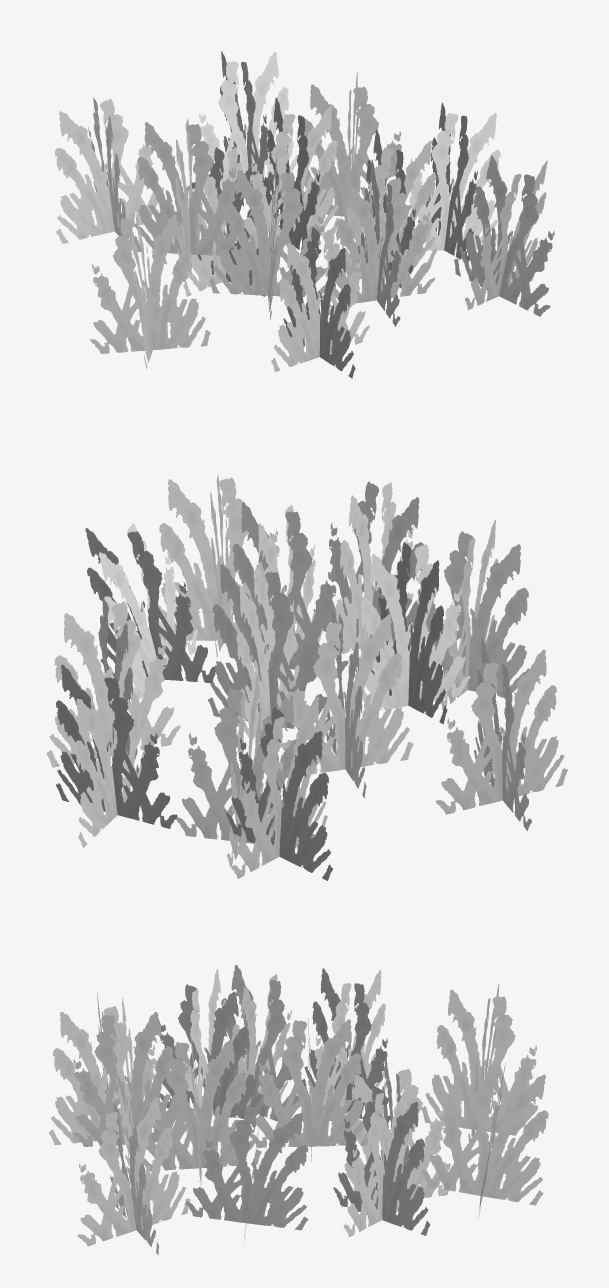
File: grassGroup1-1.fbx
The picture shows the model from 3 angles, top to bottom: view 1: azimuth 30°, elevation 25°; view 2: azimuth 150°, elevation 25°; view 3: azimuth 270°, elevation 25°; orthographic projection. The views are drawn at different scales.
Parts seen in each view (by area): view 1: grassGroup1-1; view 2: grassGroup1-1; view 3: grassGroup1-1.
Part boxes in pixels (left/top/right/bottom): grassGroup1-1: left=55, top=51, right=554, bottom=378; grassGroup1-1: left=46, top=474, right=567, bottom=880; grassGroup1-1: left=49, top=964, right=548, bottom=1254.
Bounding box in the file's own units: 315 × 152 × 340.
